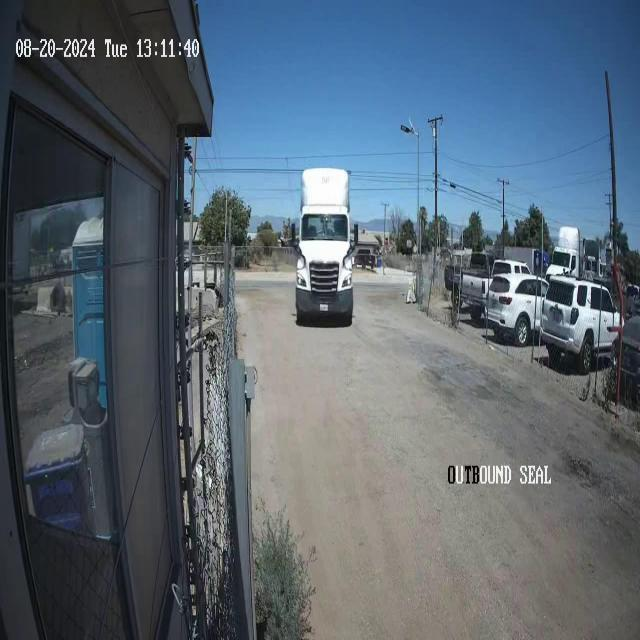TRUCK_IN: (294, 166, 354, 326)
